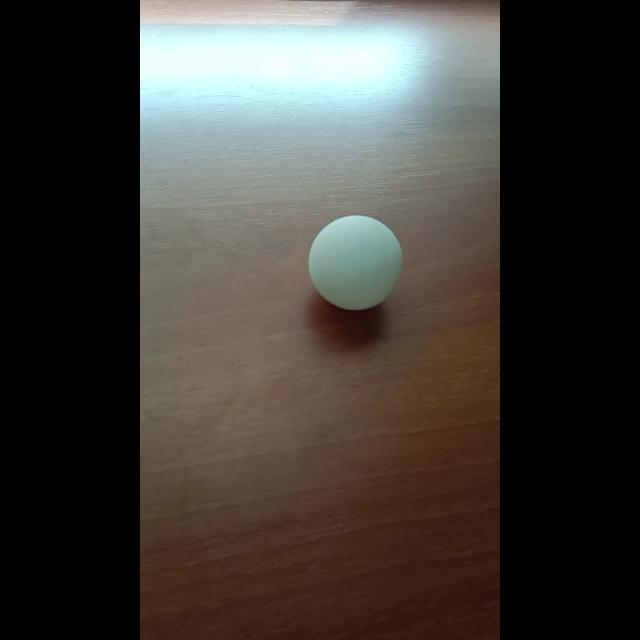white ball: (308, 213, 402, 311)
